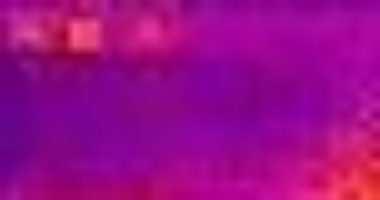Shadow: (164, 3, 380, 162), (1, 65, 163, 199)
